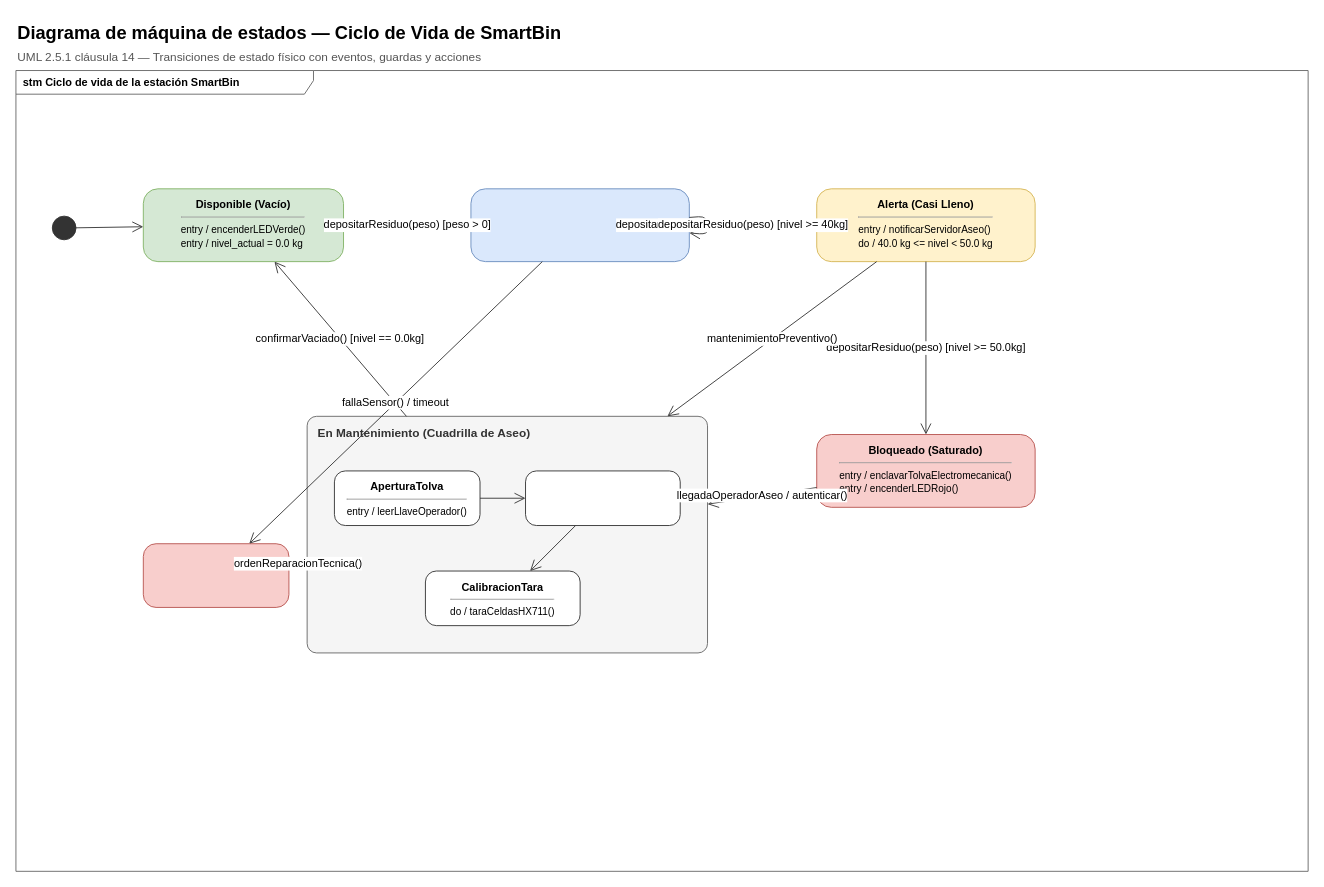
This 1324x887 diagram has some shape labels left out. Each missing label, with the centre of its shape:
"ExtraccionResiduos do / retirarBolsas()" belongs at point (602, 498).
"Fuera de Servicio entry / reportarFalla()" belongs at point (215, 575).
"Operativo (Carga Parcial) do / recibirDepositos() do / 0.0 kg < nivel < 40.0 kg" belongs at point (579, 225).
